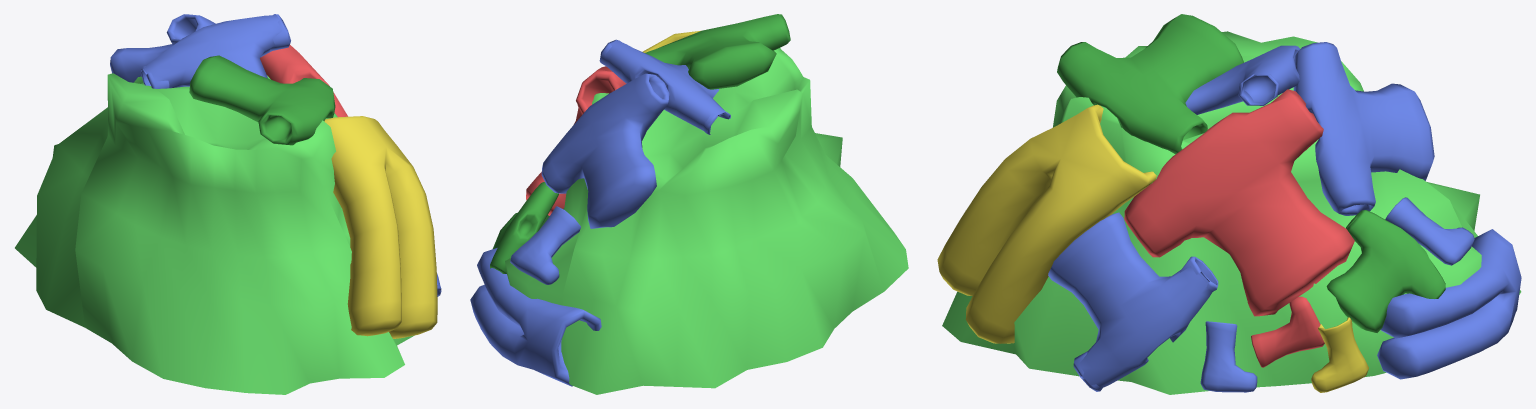
Rendered from PileOfClothes.fbx.
The picture shows the model from 3 angles, left to right: view 1: azimuth 30°, elevation 25°; view 2: azimuth 150°, elevation 25°; view 3: azimuth 270°, elevation 25°; orthographic projection. The views are drawn at different scales.
Parts seen in each view (by area): view 1: Cylinder, Cube.026, Cube.020, Cube.025, Cube.007, Cube.005; view 2: Cylinder, Cube.007, Cube.008, Cube.020, Cube.025, Cube.009, Cube.019, Cube.005; view 3: Cylinder, Cube.005, Cube.026, Cube.024, Cube.007, Cube.020, Cube.008, Cube.019, Cube.025, Cube.010, Cube.009, Cube.011 (+1 smaller).
Boxes of the visible parts, bbox=[...] form: Cylinder: bbox=[15, 73, 414, 394]; Cube.026: bbox=[324, 116, 437, 338]; Cube.020: bbox=[189, 55, 335, 145]; Cube.025: bbox=[140, 14, 290, 88]; Cube.007: bbox=[110, 14, 215, 82]; Cube.005: bbox=[260, 45, 347, 117]; Cylinder: bbox=[505, 48, 908, 394]; Cube.007: bbox=[541, 73, 669, 228]; Cube.008: bbox=[470, 248, 601, 386]; Cube.020: bbox=[645, 14, 790, 89]; Cube.025: bbox=[599, 39, 730, 134]; Cube.009: bbox=[510, 206, 580, 284]; Cube.019: bbox=[490, 182, 558, 273]; Cube.005: bbox=[526, 66, 626, 215]; Cylinder: bbox=[942, 31, 1521, 394]; Cube.005: bbox=[1124, 89, 1354, 316]; Cube.026: bbox=[937, 104, 1156, 343]; Cube.024: bbox=[1048, 212, 1218, 391]; Cube.007: bbox=[1293, 42, 1434, 215]; Cube.020: bbox=[1057, 14, 1243, 154]; Cube.008: bbox=[1377, 229, 1521, 379]; Cube.019: bbox=[1326, 210, 1445, 332]; Cube.025: bbox=[1185, 45, 1299, 114]; Cube.010: bbox=[1200, 321, 1257, 392]; Cube.009: bbox=[1385, 197, 1474, 265]; Cube.011: bbox=[1251, 296, 1324, 367].
Bounding box in the file's own units: 624 × 481 × 905.
